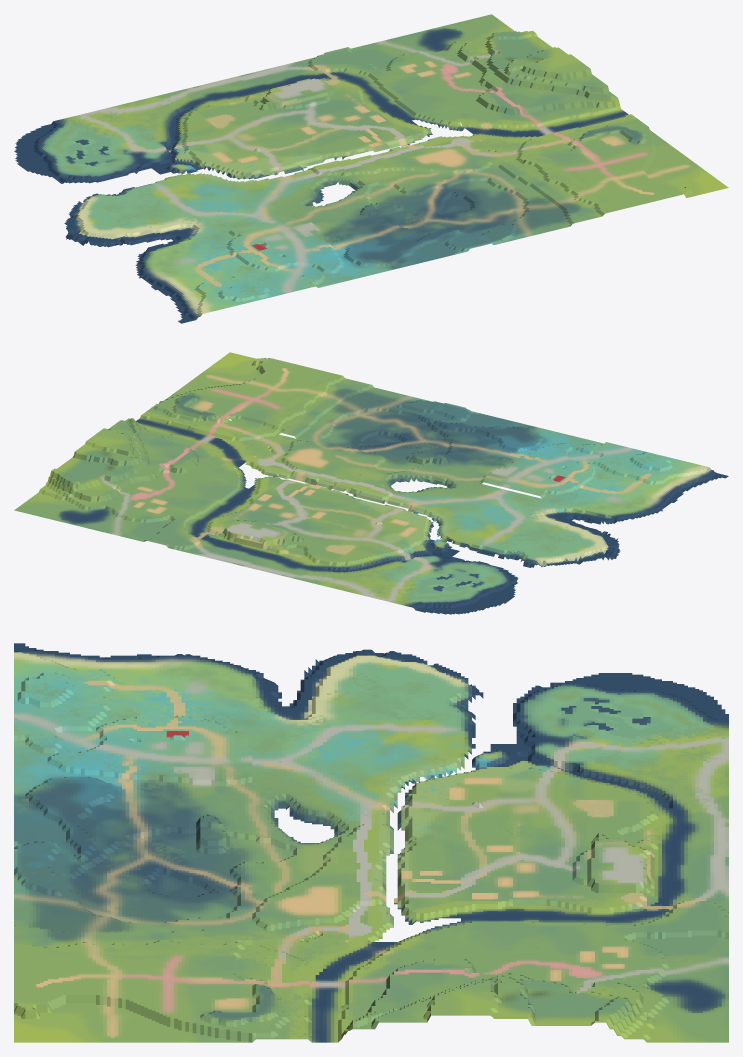
File: StartingChunks test.glb
The picture shows the model from 3 angles, top to bottom: view 1: azimuth 30°, elevation 25°; view 2: azimuth 150°, elevation 25°; view 3: azimuth 270°, elevation 25°; orthographic projection. The views are drawn at different scales.
Parts seen in each view (by area): view 1: Chunk 24, Chunk 13, Chunk 12, Chunk 32, Chunk 14, Chunk 33, Chunk 23, Chunk 22, Chunk 34, Chunk 11, Chunk 21, Chunk 31; view 2: Chunk 34, Chunk 13, Chunk 32, Chunk 33, Chunk 24, Chunk 14, Chunk 12, Chunk 11, Chunk 23, Chunk 22, Chunk 21, Chunk 31; view 3: Chunk 14, Chunk 12, Chunk 33, Chunk 32, Chunk 13, Chunk 23, Chunk 34, Chunk 22, Chunk 24, Chunk 11, Chunk 21, Chunk 31.
Boxes of the visible parts, x1,y1,x2,y2 form: Chunk 24: [434, 54, 649, 162]; Chunk 13: [376, 161, 591, 254]; Chunk 12: [239, 199, 454, 287]; Chunk 32: [81, 81, 296, 174]; Chunk 14: [513, 126, 728, 218]; Chunk 33: [218, 47, 433, 136]; Chunk 23: [297, 103, 510, 198]; Chunk 22: [165, 137, 375, 228]; Chunk 34: [355, 14, 568, 102]; Chunk 11: [135, 228, 316, 323]; Chunk 21: [64, 178, 236, 256]; Chunk 31: [14, 114, 150, 183]; Chunk 34: [14, 441, 210, 540]; Chunk 13: [283, 381, 478, 467]; Chunk 32: [264, 516, 459, 601]; Chunk 33: [139, 486, 334, 571]; Chunk 24: [86, 401, 282, 485]; Chunk 14: [160, 352, 354, 434]; Chunk 12: [408, 413, 603, 493]; Chunk 11: [532, 442, 728, 520]; Chunk 23: [211, 435, 406, 516]; Chunk 22: [336, 468, 531, 548]; Chunk 21: [466, 496, 623, 567]; Chunk 31: [388, 557, 518, 614]; Chunk 14: [14, 938, 252, 1042]; Chunk 12: [14, 735, 252, 844]; Chunk 33: [490, 832, 728, 941]; Chunk 32: [490, 740, 728, 841]; Chunk 13: [14, 838, 252, 938]; Chunk 23: [252, 838, 490, 941]; Chunk 34: [490, 938, 728, 1042]; Chunk 22: [252, 740, 490, 844]; Chunk 24: [252, 938, 490, 1042]; Chunk 11: [14, 643, 252, 740]; Chunk 21: [252, 649, 483, 743]; Chunk 31: [513, 673, 728, 743].
Bounding box in the file's own units: 256 × 11 × 192.
Materials: 12 (12 with a texture image).
